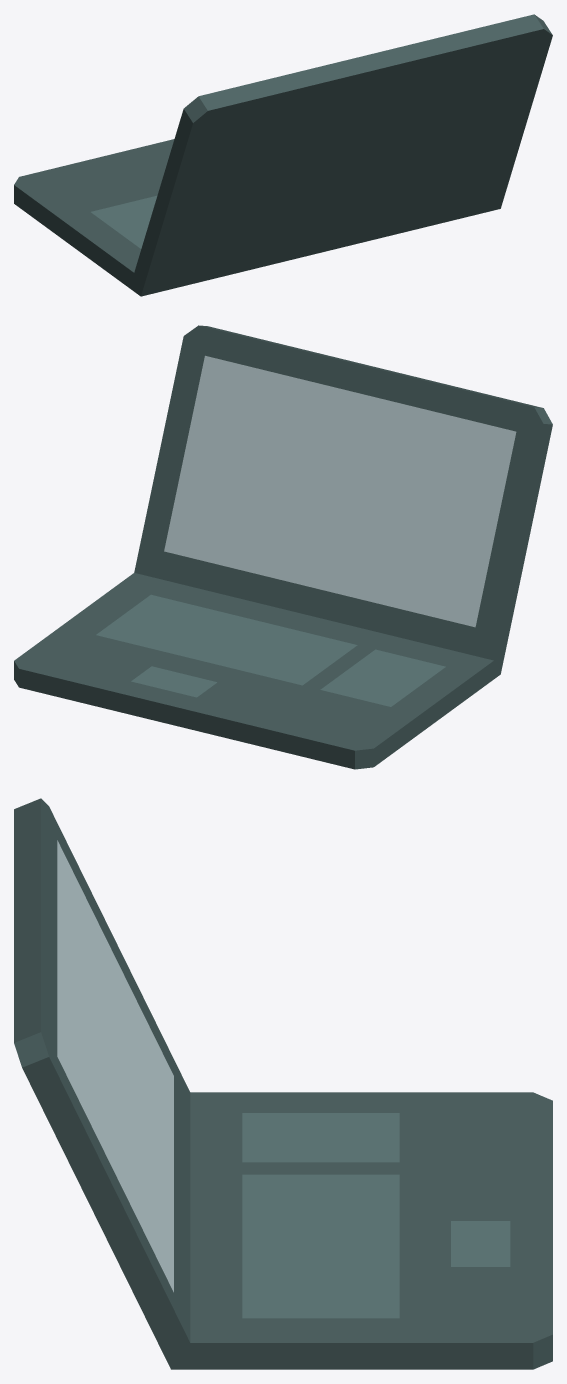
The model's file is laptop.gltf.
The picture shows the model from 3 angles, top to bottom: view 1: azimuth 30°, elevation 25°; view 2: azimuth 150°, elevation 25°; view 3: azimuth 270°, elevation 25°; orthographic projection. The views are drawn at different scales.
Parts seen in each view (by area): view 1: laptop; view 2: laptop; view 3: laptop.
Boxes of the visible parts, x1,y1,x2,y2 form: laptop: (14, 14, 552, 296); laptop: (14, 325, 552, 769); laptop: (14, 798, 552, 1369).
Bounding box in the file's own units: 0.264 × 0.1618 × 0.2401.
